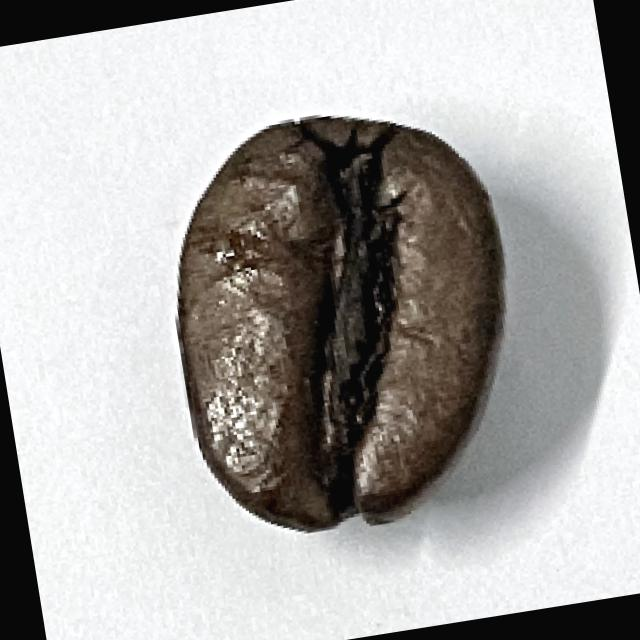bean: (141, 82, 548, 555)
